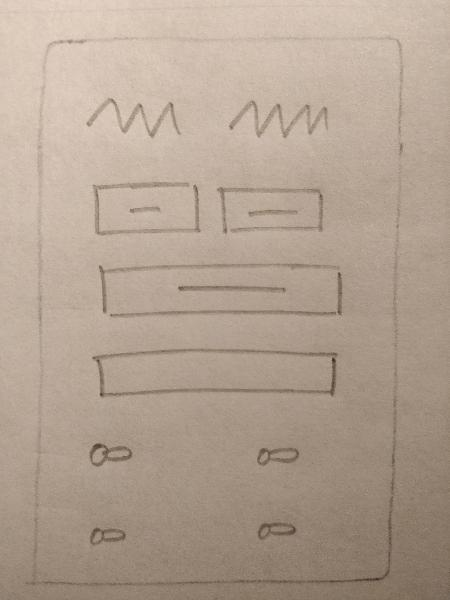button: (86, 257, 357, 322), (81, 175, 210, 241), (214, 178, 331, 237)
switch: (241, 510, 329, 549), (242, 434, 313, 476), (78, 429, 141, 476), (73, 516, 147, 554)
text: (221, 89, 343, 148), (77, 88, 193, 142)
text_input: (89, 340, 348, 403)
